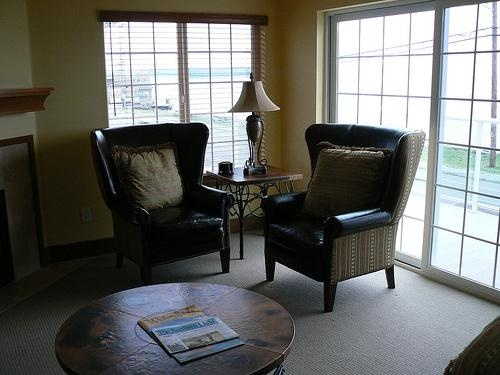chair: (264, 123, 426, 314), (89, 123, 232, 285)
